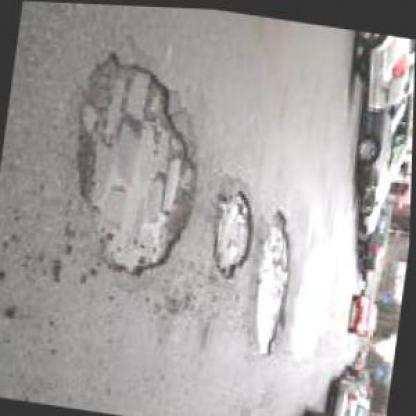pothole: (50, 35, 216, 287), (247, 198, 301, 359), (207, 179, 258, 283)
